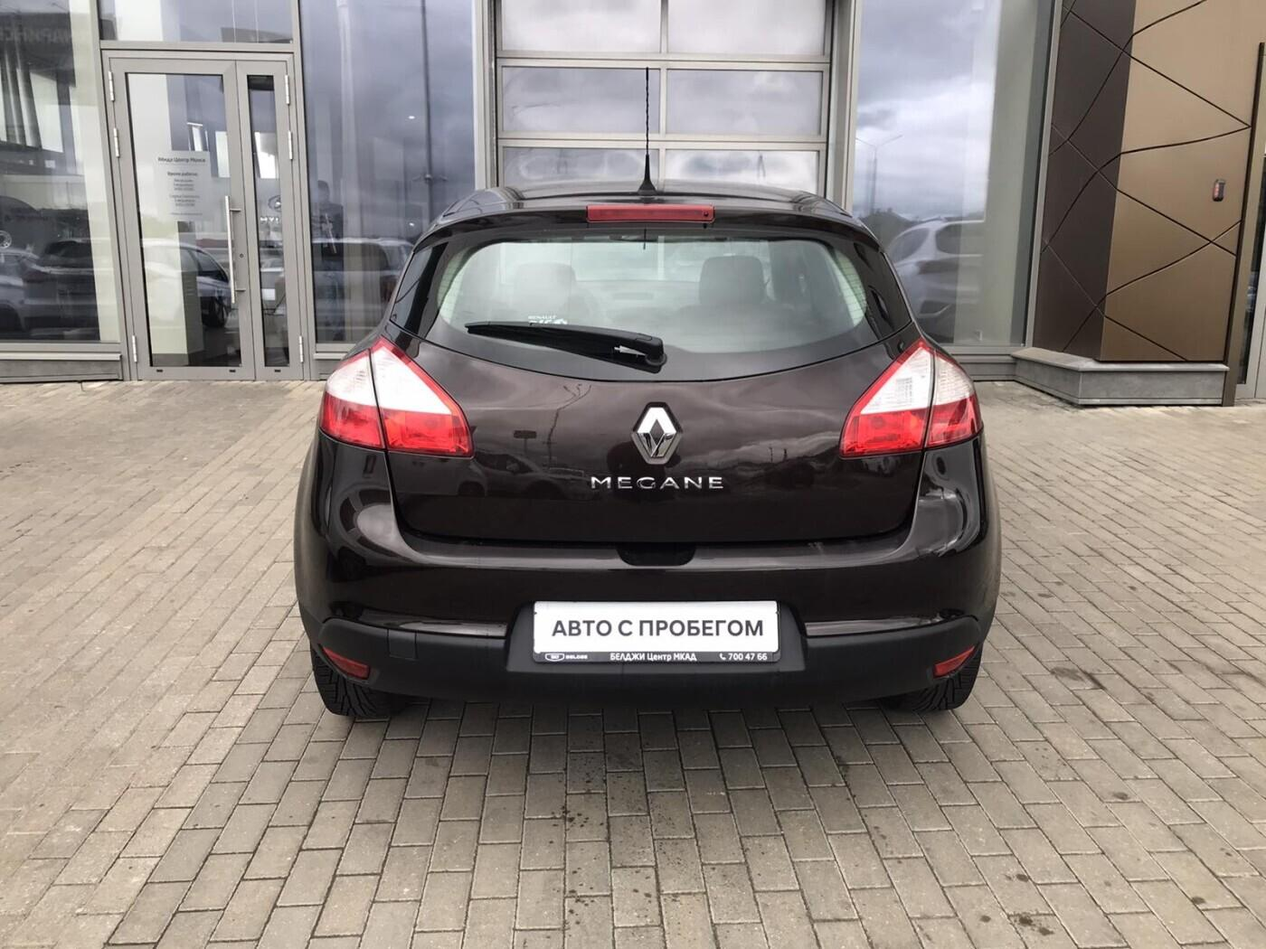Megane_2012-2014: (295, 176, 1014, 723)
